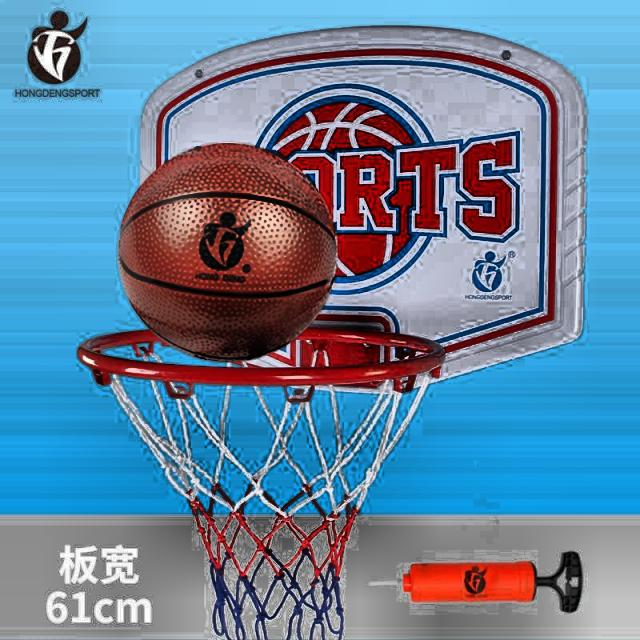board: (119, 142, 340, 361)
rim: (80, 339, 444, 640)
